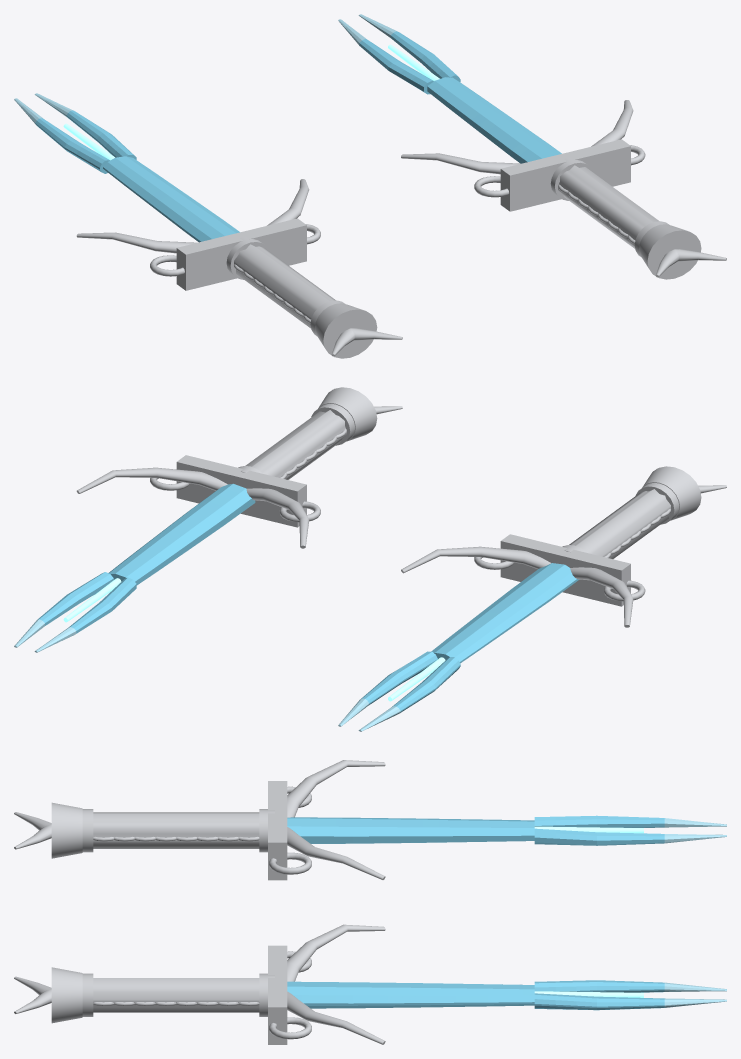
The model's file is art_phantom_edge.fbx.
3 renders of one model, top to bottom at view 1: azimuth 30°, elevation 25°; view 2: azimuth 150°, elevation 25°; view 3: azimuth 270°, elevation 25°, orthographic. The views are drawn at different scales.
Visible parts, largest first — view 1: Crossguard, CrossguardL, BladeL, Blade, HandleL, Handle, Pommel, PommelL; view 2: BladeL, Blade, Crossguard, CrossguardL, HandleL, Handle, PommelL, Pommel, BladeEdgeL, BladeEdge; view 3: Blade, BladeL, HandleL, Handle, CrossguardL, Crossguard, PommelL, Pommel, BladeEdgeL, BladeEdge, RuneInlayL, RuneInlay.
Boxes of the visible parts, x1,y1,x2,y2 form: Crossguard: (401,100,645,211); CrossguardL: (76,179,320,290); BladeL: (35,110,239,242); Blade: (359,31,561,163); HandleL: (226,236,344,335); Handle: (550,157,669,257); Pommel: (639,224,726,279); PommelL: (315,303,402,358); BladeL: (360,563,579,713); Blade: (37,483,255,633); Crossguard: (76,455,320,548); CrossguardL: (401,534,645,627); HandleL: (562,483,679,558); Handle: (238,403,355,479); PommelL: (642,466,726,520); Pommel: (318,387,402,441); BladeEdgeL: (338,698,400,731); BladeEdge: (14,619,76,652); Blade: (287,980,664,1010); BladeL: (287,815,664,845); HandleL: (82,809,274,852); Handle: (82,973,274,1016); CrossguardL: (268,760,385,880); Crossguard: (268,924,385,1044); PommelL: (14,802,82,858); Pommel: (14,967,82,1023); BladeEdgeL: (664,818,726,843); BladeEdge: (664,982,726,1007); RuneInlayL: (534,826,643,833); RuneInlay: (534,991,643,997).
Bounding box in the file's own units: 256 × 21 × 274.
